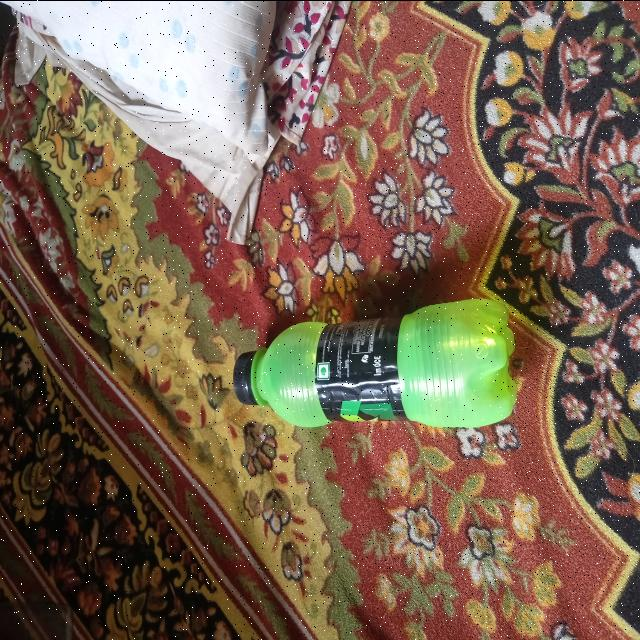plastic: (230, 294, 522, 438)
